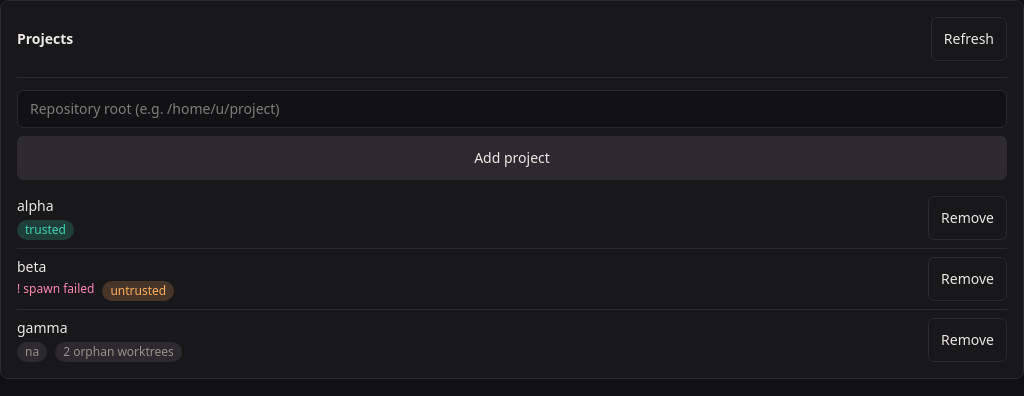
ProjectsPanel › requires an inline confirm before removing a project
Expected: the link "alpha" is shown, [17,196,54,215]
Step 1. Click the button "Remove" in the row of "alpha" → (968, 218), box [928,196,1007,240]
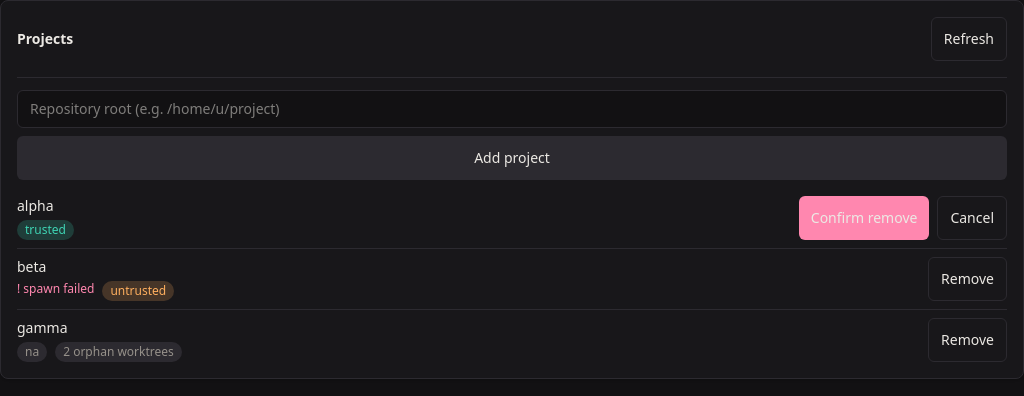
Expected: the button "Confirm remove" is shown, [799,196,929,240]
Step 2. Click the button "Cancel" → (972, 218), box [937,196,1007,240]
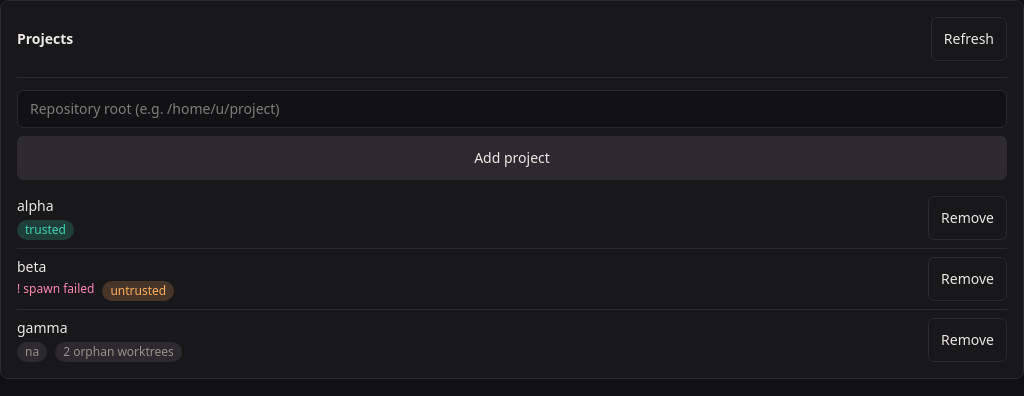
Step 3. Click the button "Remove" in the row of "alpha" → (968, 218), box [928,196,1007,240]
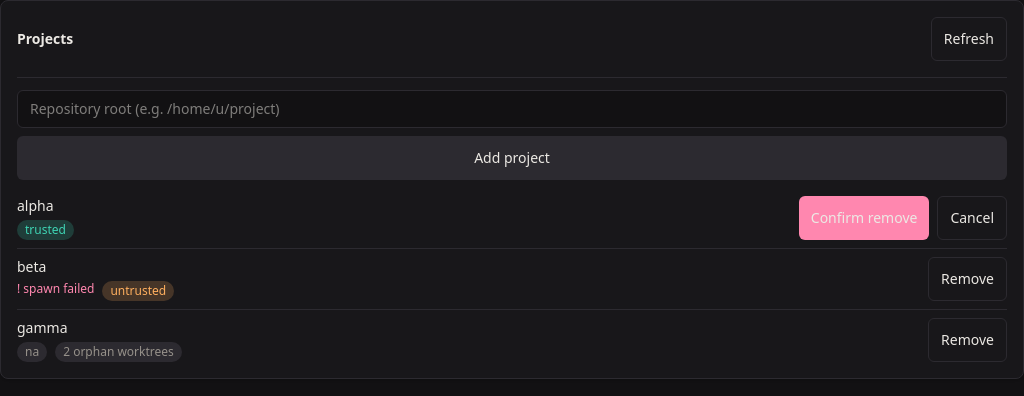
Step 4. Click the button "Confirm remove" → (864, 218), box [799,196,929,240]
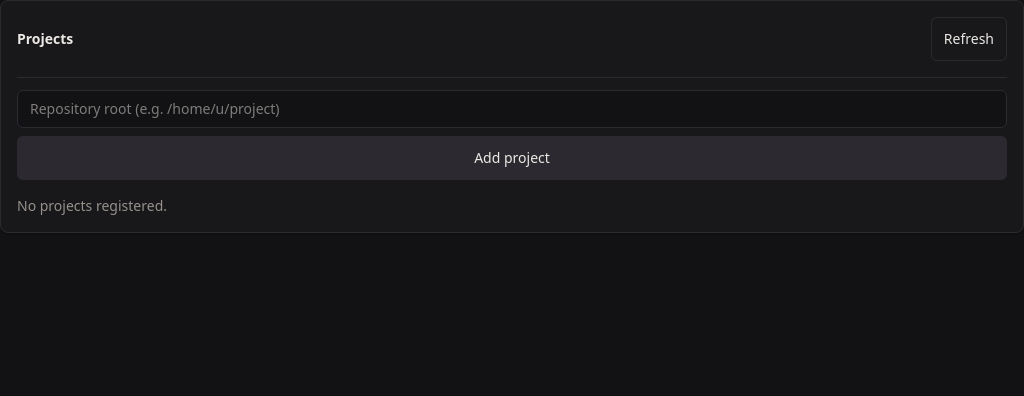
Expected: the text "No projects registered." is shown, [17,196,167,215]
